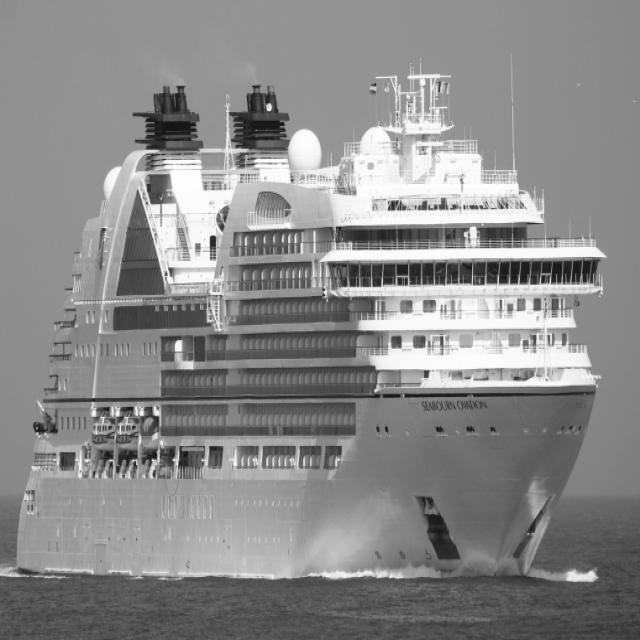cruises: (8, 58, 612, 594)
